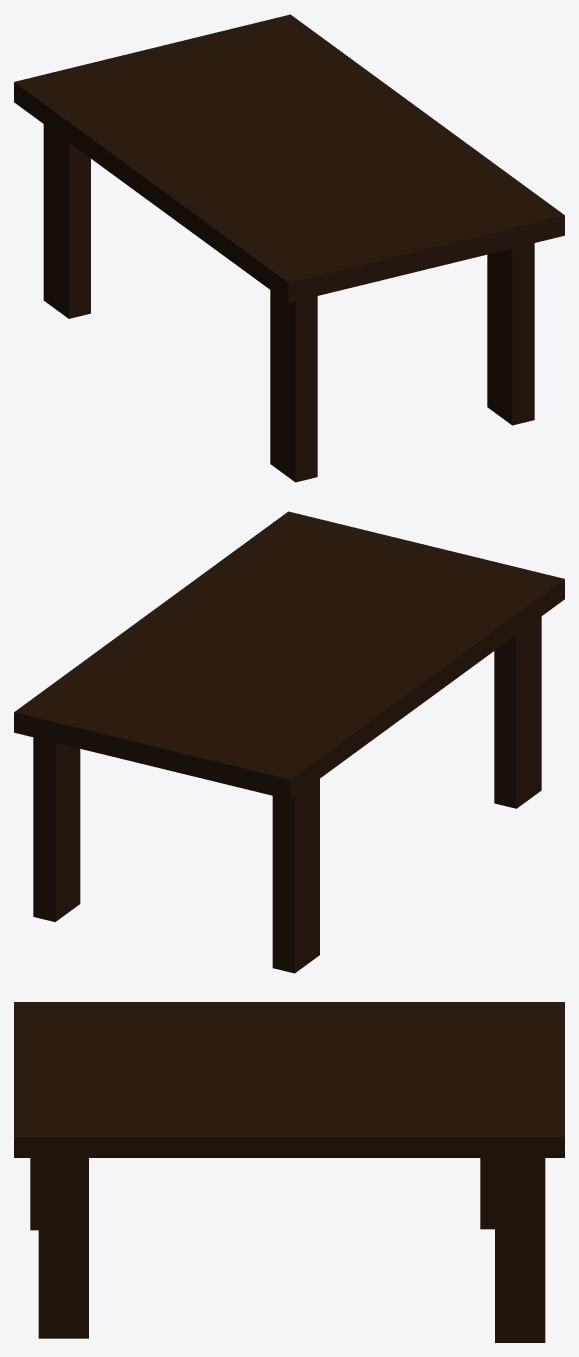
Rendered from Table.fbx.
The picture shows the model from 3 angles, top to bottom: view 1: azimuth 30°, elevation 25°; view 2: azimuth 150°, elevation 25°; view 3: azimuth 270°, elevation 25°; orthographic projection.
Visible parts, largest first — view 1: Plane.003; view 2: Plane.003; view 3: Plane.003.
Part boxes in pixels (x1,y1,x2,y2): Plane.003: [14, 14, 564, 482]; Plane.003: [14, 511, 564, 973]; Plane.003: [14, 1002, 564, 1342].
Bounding box in the file's own units: 3993 × 1680 × 2323.
